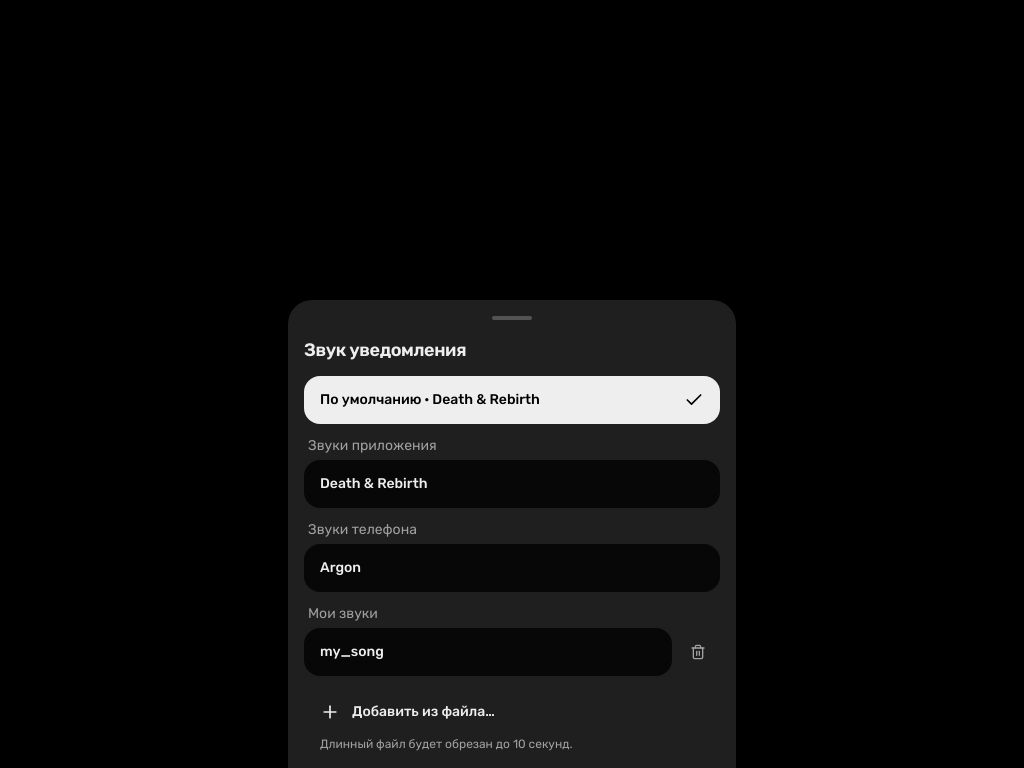
SoundPicker › shows the core's message when adding is unsupported
The image size is (1024, 768).
Click the button "Добавить из файла…": point(423, 712) [304,688,720,736]
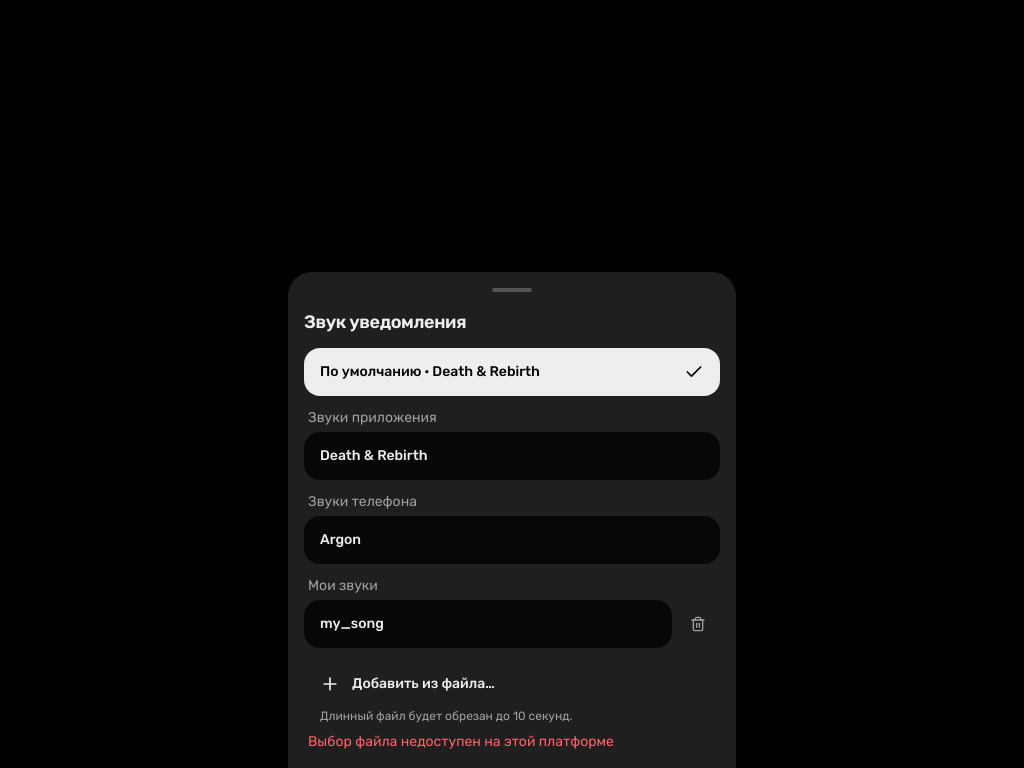
Expected: the text "Выбор файла недоступен на этой платформе" is shown, [308,733,614,750]
